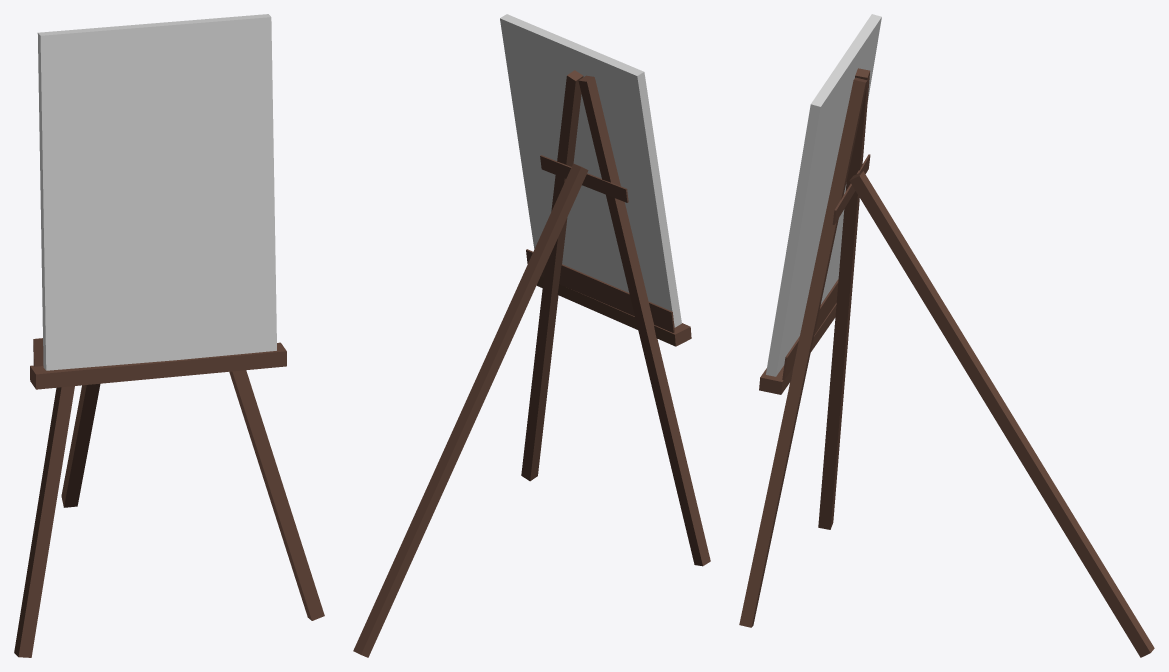
Rendered from easel.glb.
3 renders of one model, left to right at view 1: azimuth 30°, elevation 25°; view 2: azimuth 150°, elevation 25°; view 3: azimuth 270°, elevation 25°, orthographic. The views are drawn at different scales.
Visible parts, largest first — view 1: easel; view 2: easel; view 3: easel.
Boxes of the visible parts, left/top/right/bottom form: easel: left=14, top=14, right=324, bottom=657; easel: left=353, top=14, right=710, bottom=657; easel: left=739, top=14, right=1154, bottom=657.
Bounding box in the file's own units: 0.4403 × 1 × 0.6698.
